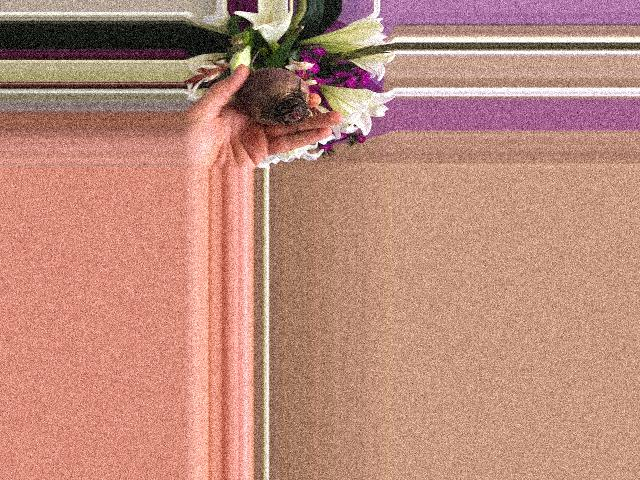beet: (235, 49, 309, 125)
